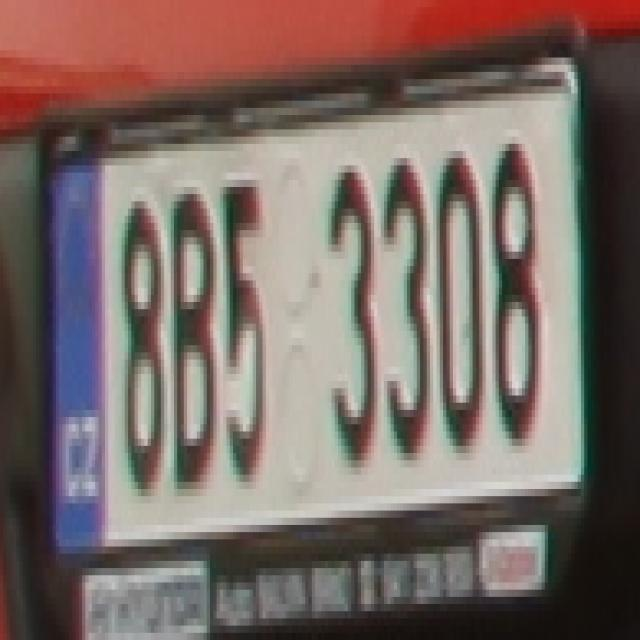0: (440, 144, 486, 446)
3: (384, 151, 437, 453), (325, 165, 377, 453)
5: (217, 180, 269, 467)
8: (486, 137, 538, 446), (119, 194, 168, 503)
B: (168, 187, 214, 503)
